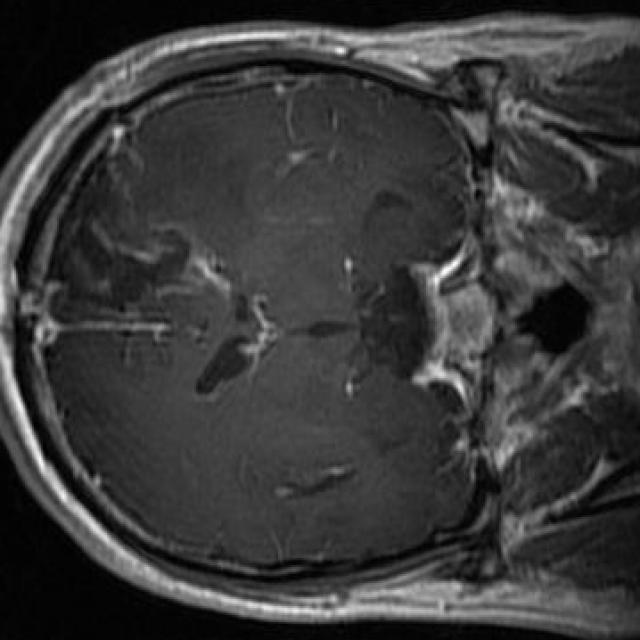glioma: (46, 127, 230, 337)
